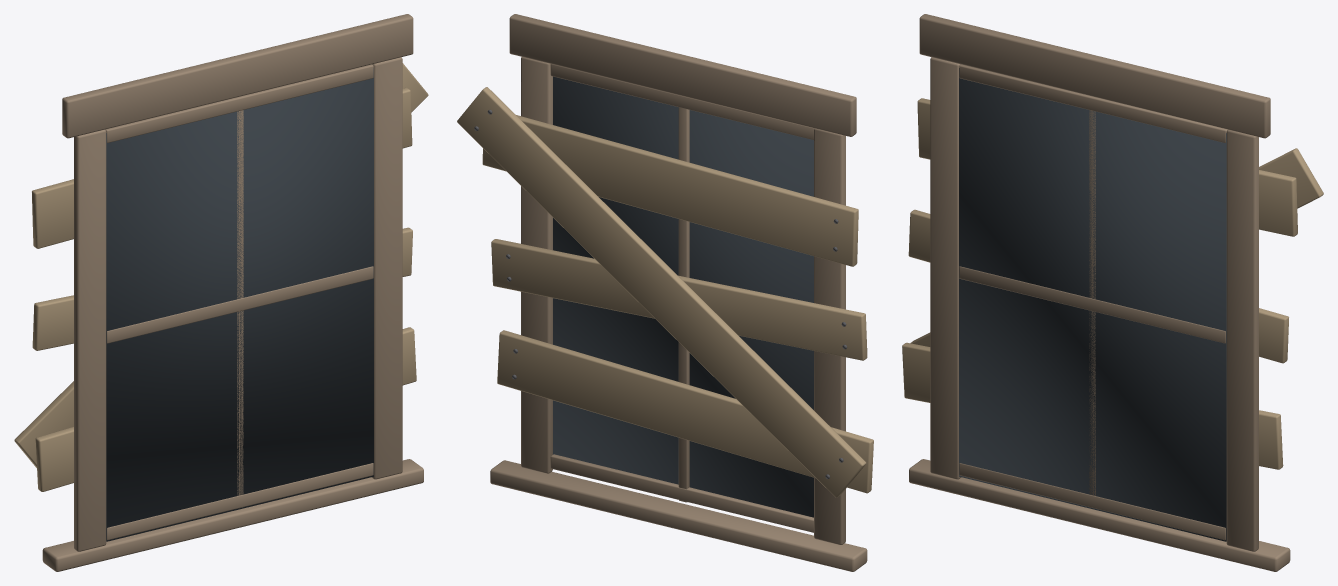
The model's file is ss_boarded_window.glb.
3 renders of one model, left to right at view 1: azimuth 30°, elevation 25°; view 2: azimuth 150°, elevation 25°; view 3: azimuth 330°, elevation 25°, orthographic.
Parts seen in each view (by area): view 1: ss_boarded_window; view 2: ss_boarded_window; view 3: ss_boarded_window.
Boxes of the visible parts, <box> form: ss_boarded_window: <box>14,14,428,571</box>; ss_boarded_window: <box>457,14,873,571</box>; ss_boarded_window: <box>902,14,1323,571</box>.
Bounding box in the file's own units: 1.14 × 1.24 × 0.12.
